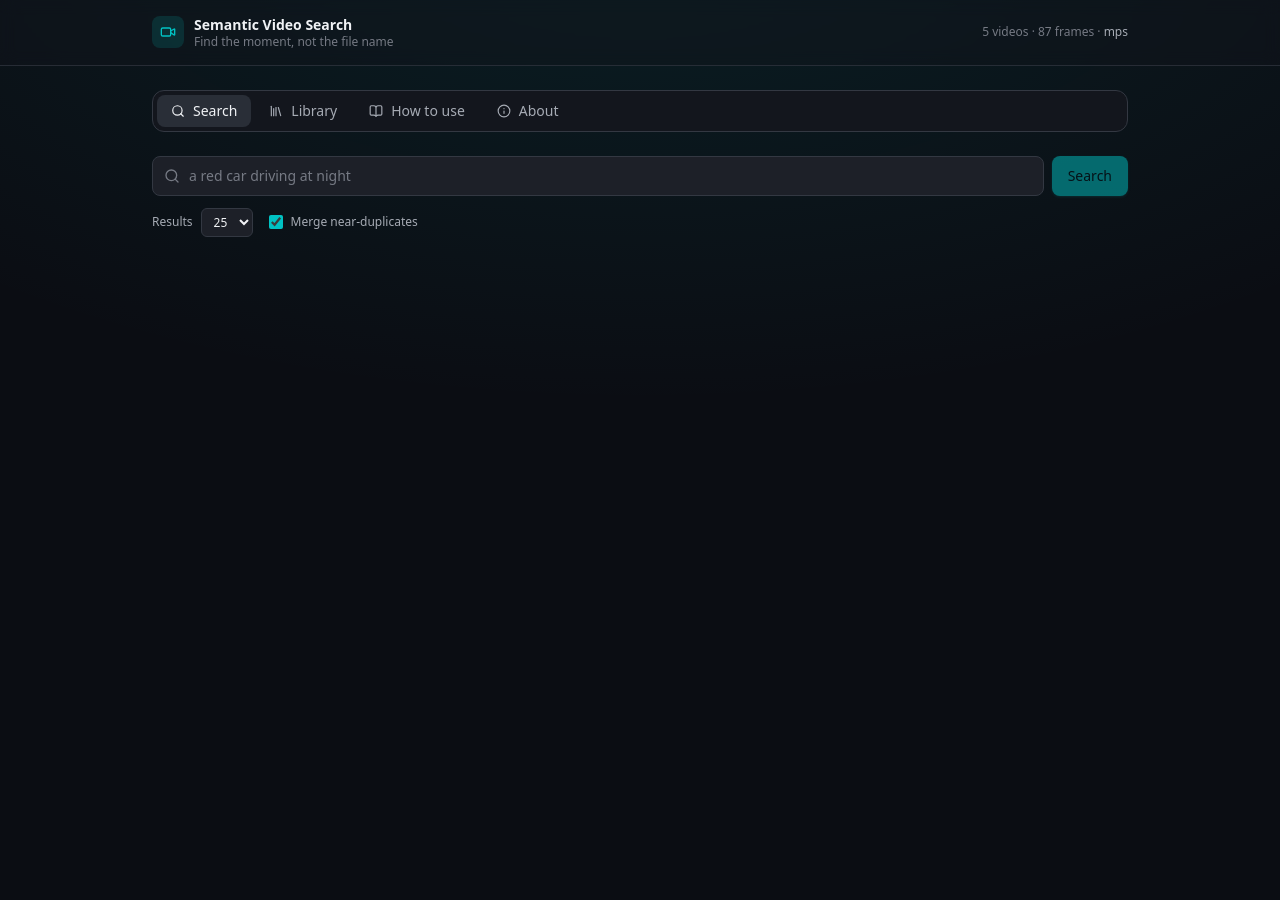
Scenario: App shell › switches panels when a tab is chosen
Expected: the text "5 videos · 87 frames · mps" is shown, [982, 24, 1128, 40]
Click the tab "How to use": (417, 110) [355, 94, 479, 126]
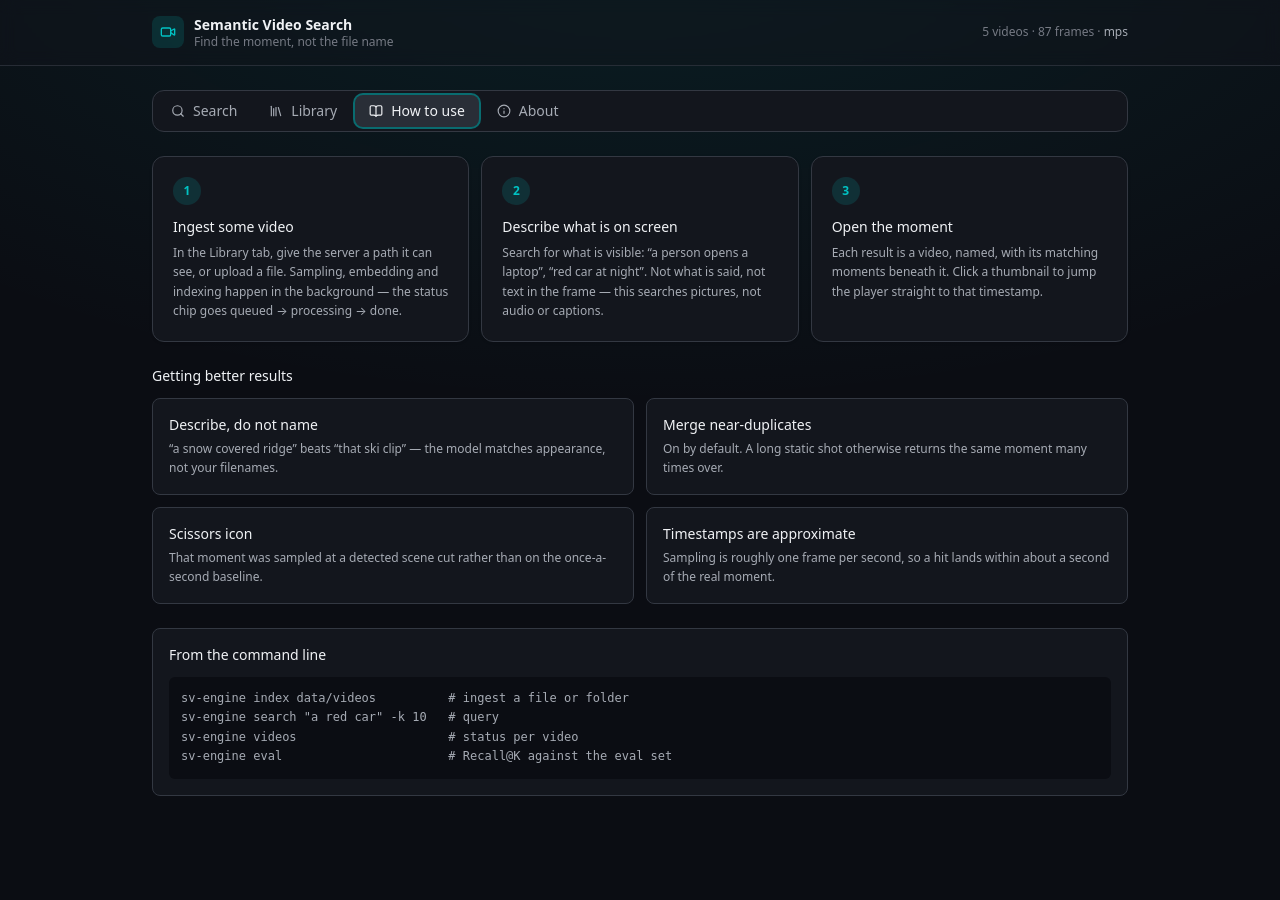
Now the heading "Describe what is on screen" is shown, box [502, 216, 678, 236]
Click the tab "About": (528, 110) [483, 94, 572, 126]
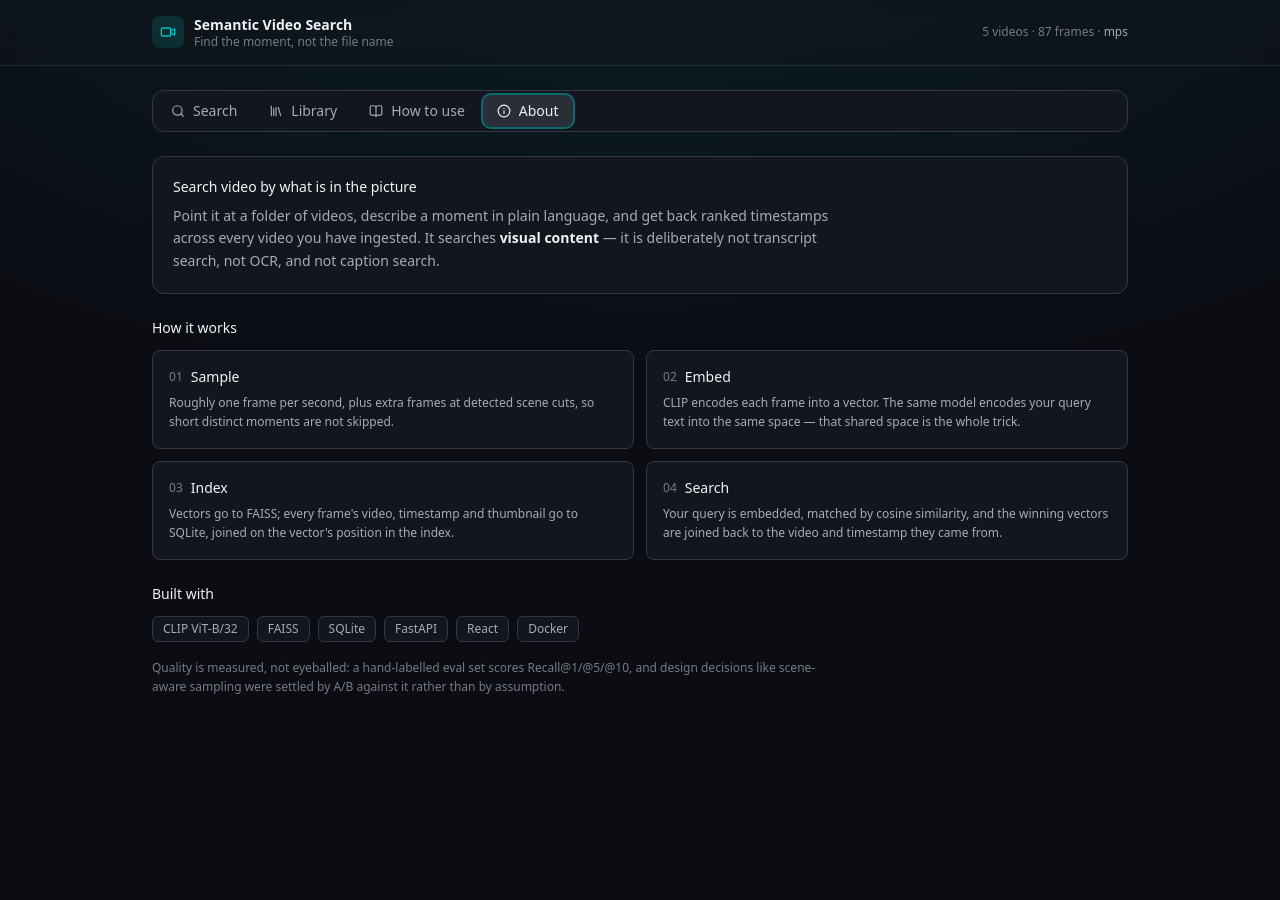
Now the heading "How it works" is shown, box [152, 318, 237, 337]
